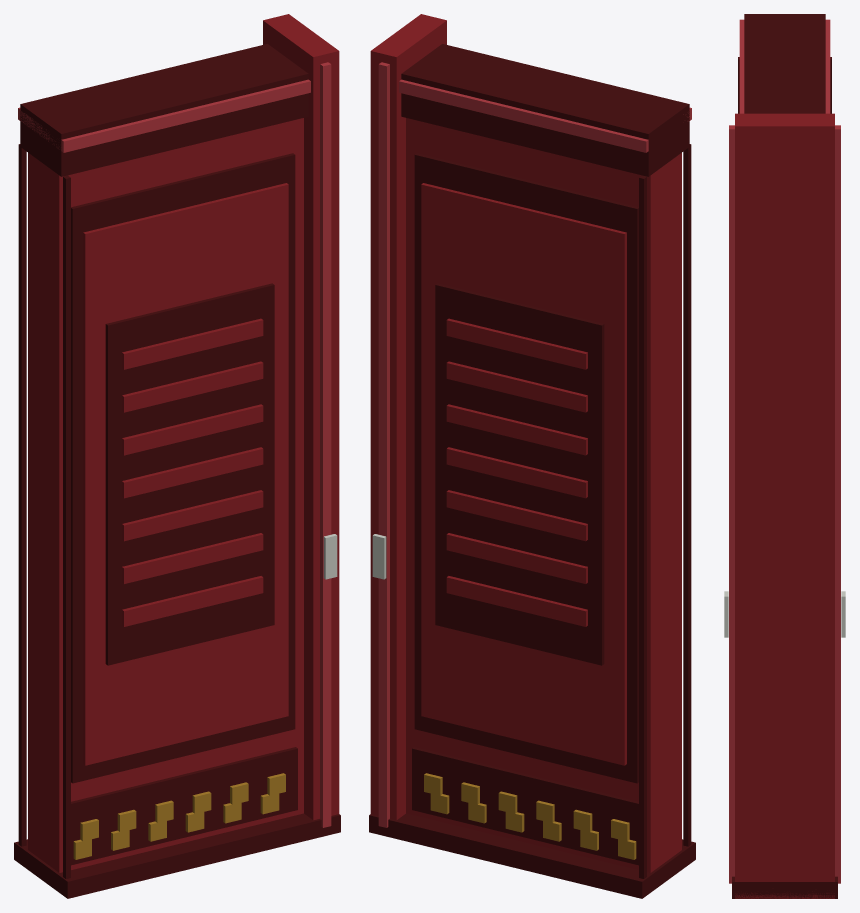
Rendered from CMU3DPairedSecuritySolid.glb.
The picture shows the model from 3 angles, left to right: view 1: azimuth 30°, elevation 25°; view 2: azimuth 150°, elevation 25°; view 3: azimuth 270°, elevation 25°; orthographic projection.
Visible parts, largest first — view 1: inner face panel, single closed door leaf, large recessed solid panel, outer door jamb, leaf recessed face, continuous top track, solid panel narrow louvers (×7), meeting edge seal (×2), lower hazard band, outer jamb highlight, threshold, top track lip (+1 smaller); view 2: inner face panel back, single closed door leaf, large recessed solid panel back, outer door jamb, leaf recessed face back, continuous top track, solid panel narrow louvers back (×7), meeting edge seal (×2), lower hazard band back, outer jamb highlight, threshold, top track lip (+1 smaller); view 3: outer door jamb, outer jamb highlight (×2), continuous top track, threshold, top track lip.
Part boxes in pixels (x1,y1,x2,y2): inner face panel: (83, 183, 288, 765); single closed door leaf: (28, 118, 303, 872); large recessed solid panel: (105, 283, 274, 665); outer door jamb: (263, 14, 339, 820); leaf recessed face: (71, 153, 295, 783); continuous top track: (20, 44, 308, 176); solid panel narrow louvers (×7): (122, 318, 263, 626); meeting edge seal (×2): (18, 144, 70, 878); lower hazard band: (71, 747, 297, 865); outer jamb highlight: (320, 62, 331, 827); threshold: (14, 813, 340, 898); top track lip: (18, 79, 310, 152); inner face panel back: (421, 183, 626, 765); single closed door leaf: (406, 118, 681, 872); large recessed solid panel back: (435, 283, 604, 665); outer door jamb: (370, 14, 446, 820); leaf recessed face back: (414, 153, 638, 783); continuous top track: (401, 44, 689, 176); solid panel narrow louvers back (×7): (446, 318, 587, 626); meeting edge seal (×2): (639, 144, 691, 878); lower hazard band back: (412, 747, 638, 865); outer jamb highlight: (378, 62, 389, 827); threshold: (369, 813, 695, 898); top track lip: (399, 79, 691, 152); outer door jamb: (735, 113, 834, 898); outer jamb highlight (×2): (729, 125, 840, 883); continuous top track: (744, 14, 825, 113); threshold: (732, 876, 837, 898); top track lip: (739, 19, 830, 113).
Bounding box in the file's own units: 1 × 2.73 × 0.388.
